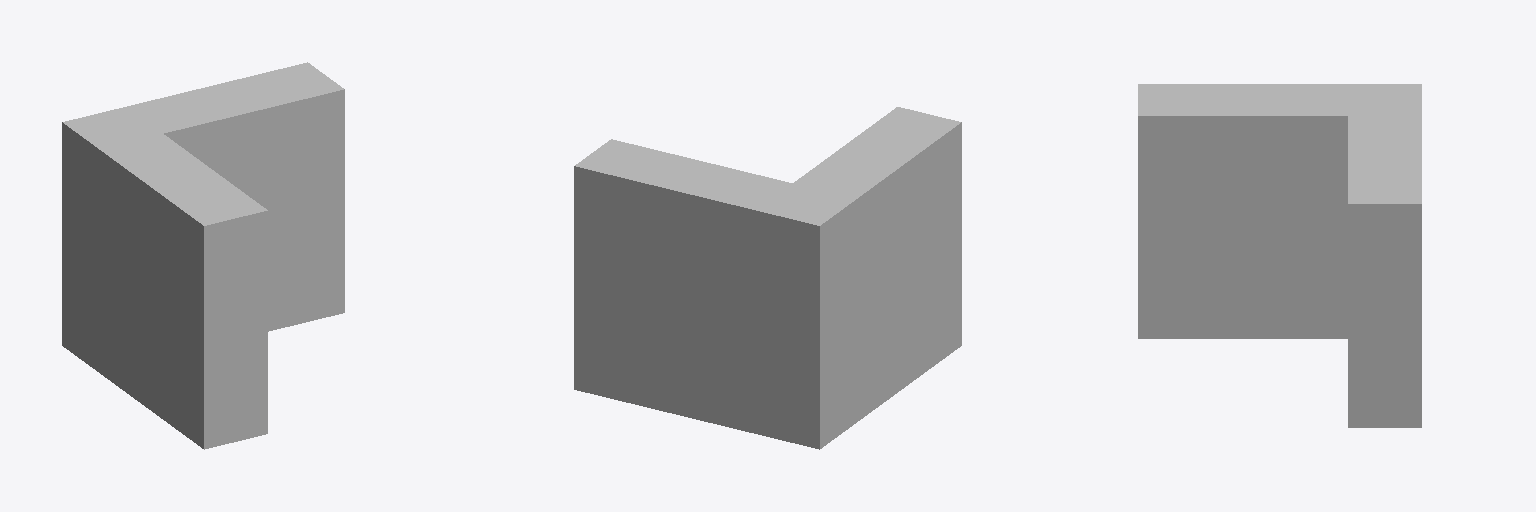
File: WallCorner.obj
3 renders of one model, left to right at view 1: azimuth 30°, elevation 25°; view 2: azimuth 150°, elevation 25°; view 3: azimuth 270°, elevation 25°, orthographic.
Parts seen in each view (by area): view 1: WallCorner; view 2: WallCorner; view 3: WallCorner.
Part boxes in pixels (bbox=[...]): WallCorner: bbox=[62, 62, 344, 449]; WallCorner: bbox=[574, 107, 961, 449]; WallCorner: bbox=[1138, 84, 1421, 427].
Bounding box in the file's own units: 46 × 40 × 46.